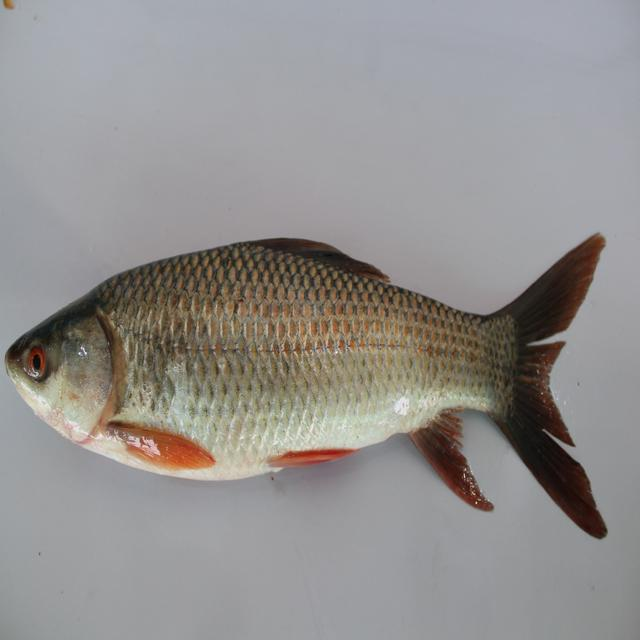Rohu: (1, 228, 640, 574)
